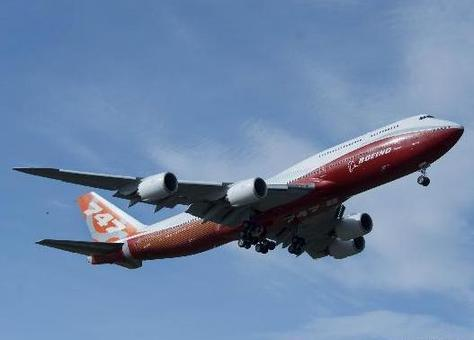airplane: (10, 111, 467, 269)
